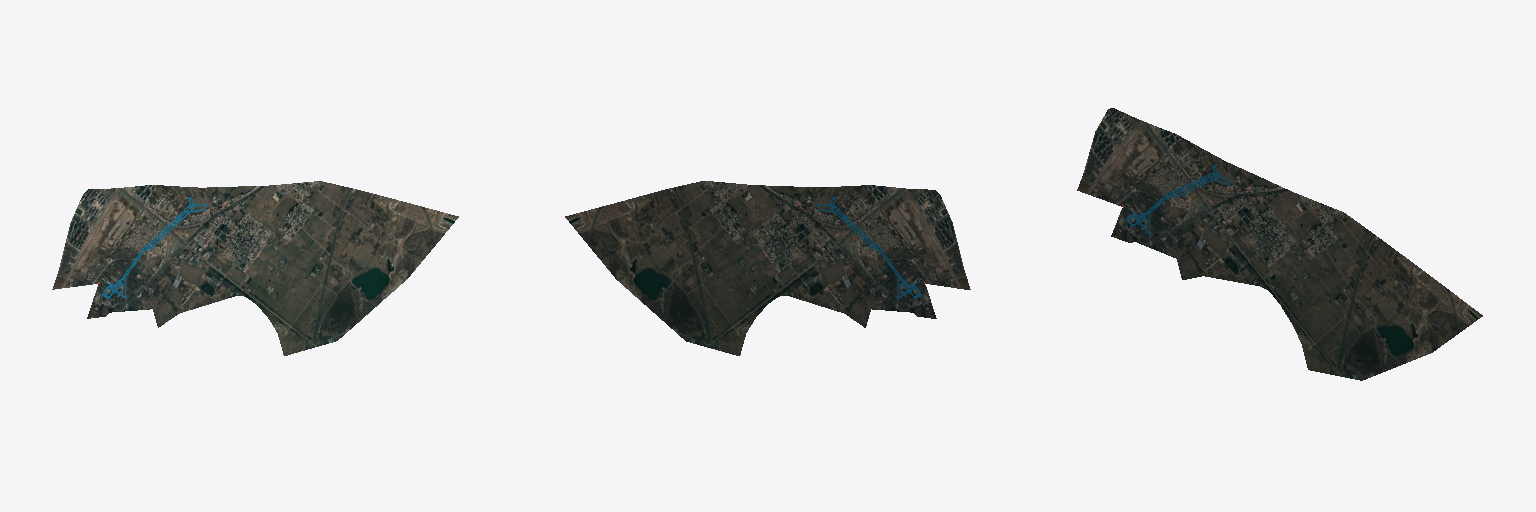
3 views of the same model, side by side, from view 1: azimuth 30°, elevation 25°; view 2: azimuth 150°, elevation 25°; view 3: azimuth 330°, elevation 25° (orthographic).
Visible parts, largest first — view 1: 0_1Top; view 2: 0_1Top; view 3: 0_1Top.
Boxes of the visible parts, box(x1,y1,x2,y2) form: 0_1Top: box(52, 181, 458, 355); 0_1Top: box(565, 181, 970, 355); 0_1Top: box(1077, 108, 1482, 380).
Size of the model in its own units: 66.48 by 33.54 by 0.2333.
1 materials, 1 textured.